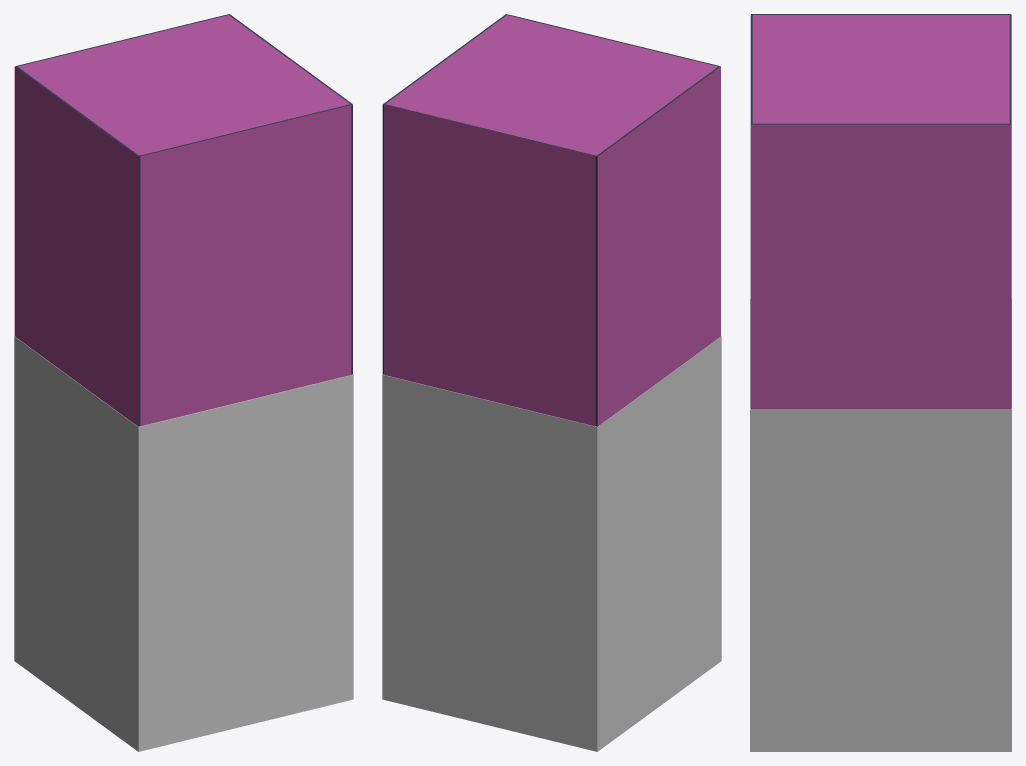
File: Floor Display Case 1.fbx
3 renders of one model, left to right at view 1: azimuth 30°, elevation 25°; view 2: azimuth 150°, elevation 25°; view 3: azimuth 270°, elevation 25°, orthographic. The views are drawn at different scales.
Visible parts, largest first — view 1: Glass, Display; view 2: Glass, Display; view 3: Glass, Display.
Part boxes in pixels (x1,y1,x2,y2): Glass: [14, 14, 352, 426]; Display: [14, 336, 353, 751]; Glass: [382, 14, 720, 426]; Display: [382, 336, 721, 751]; Glass: [750, 14, 1011, 409]; Display: [750, 299, 1011, 751].
Size of the model in its own units: 65 by 172 by 65.
